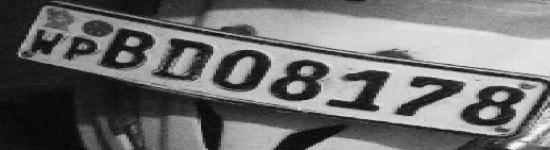1: (316, 62, 409, 118)
7: (379, 69, 481, 122)
8: (439, 77, 541, 131), (255, 54, 346, 108)
B: (83, 22, 170, 80)
D: (142, 33, 229, 89)
O: (198, 43, 290, 98)
P: (52, 33, 109, 67)
W: (19, 26, 70, 58)
